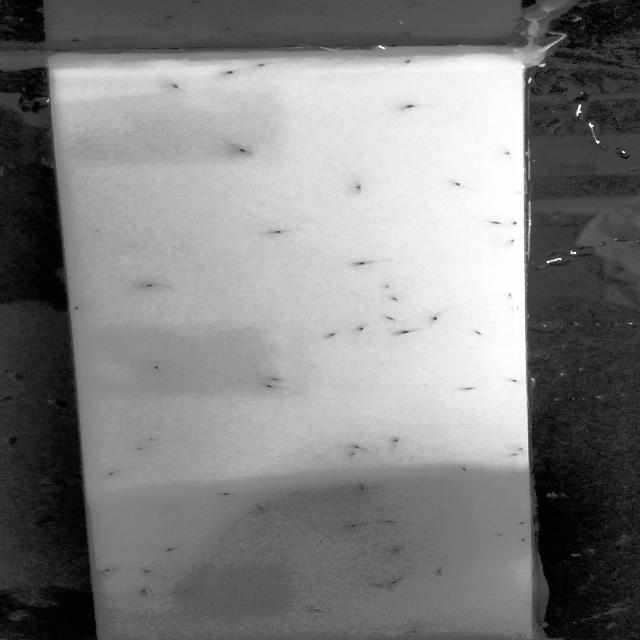shrimp: (349, 255, 374, 273), (228, 142, 256, 158), (399, 624, 432, 637), (311, 603, 331, 622), (464, 327, 490, 341), (262, 226, 290, 238), (349, 480, 373, 494), (391, 327, 418, 339), (432, 566, 452, 582), (344, 181, 368, 194), (143, 361, 165, 375), (364, 576, 386, 590), (166, 80, 187, 94), (69, 301, 90, 315), (420, 314, 444, 326), (382, 313, 403, 326), (508, 374, 526, 389), (487, 216, 507, 229), (338, 521, 364, 531), (387, 544, 405, 557), (320, 328, 341, 339), (448, 181, 467, 193), (139, 280, 158, 292), (102, 469, 121, 481), (489, 526, 505, 540), (381, 516, 399, 528), (398, 102, 419, 112), (498, 149, 518, 159), (218, 489, 236, 500), (181, 585, 198, 596), (220, 66, 238, 76), (401, 56, 417, 67), (455, 464, 471, 475), (162, 545, 178, 556), (464, 382, 481, 392), (254, 59, 268, 71), (380, 282, 394, 294), (139, 585, 154, 596), (345, 449, 363, 458), (99, 565, 117, 574), (262, 374, 278, 384), (389, 436, 405, 446), (256, 504, 272, 514), (387, 295, 404, 304), (140, 568, 159, 576), (132, 445, 148, 454), (352, 324, 366, 334), (350, 442, 364, 452), (513, 535, 527, 545), (390, 579, 403, 588), (519, 520, 531, 528), (147, 435, 157, 444)
